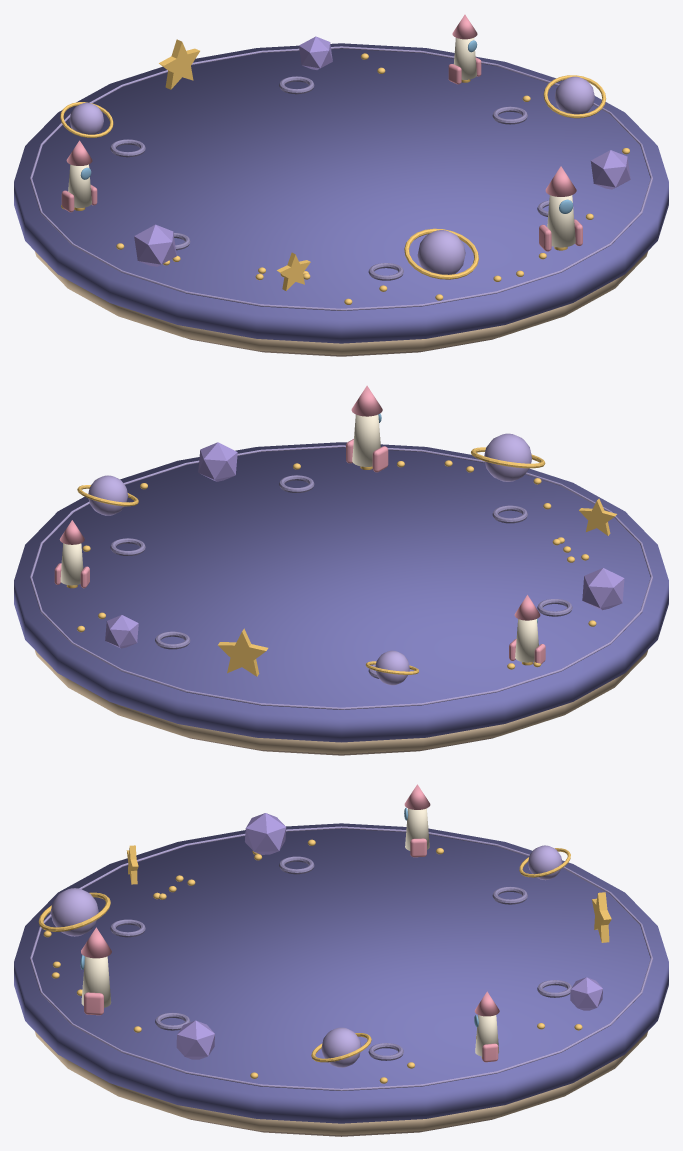
The model's file is world.glb.
The picture shows the model from 3 angles, top to bottom: view 1: azimuth 30°, elevation 25°; view 2: azimuth 150°, elevation 25°; view 3: azimuth 270°, elevation 25°; orthographic projection.
Visible parts, largest first — view 1: Cone, Cone.001, Torus.152, planet.003, rocket.003, planet.001, rocket.002, rocket.001, gem.002, planet.002, gem.003, star.001 (+3 smaller); view 2: Cone, Cone.001, Torus.152, rocket.003, planet.003, rocket.002, rocket.001, planet.001, gem.002, gem.003, star.001, planet.002 (+3 smaller); view 3: Cone, Cone.001, Torus.152, planet.003, rocket.003, planet.001, rocket.002, rocket.001, gem.002, gem.003, planet.002, gem.001 (+2 smaller).
Boxes of the visible parts, bbox=[...] form: Cone: bbox=[14, 43, 668, 343]; Cone.001: bbox=[34, 251, 648, 355]; Torus.152: bbox=[30, 46, 652, 310]; planet.003: bbox=[404, 228, 478, 279]; rocket.003: bbox=[539, 166, 582, 251]; planet.001: bbox=[543, 75, 606, 118]; rocket.002: bbox=[61, 140, 97, 212]; rocket.001: bbox=[448, 14, 481, 84]; gem.002: bbox=[134, 224, 176, 266]; planet.002: bbox=[60, 102, 113, 137]; gem.003: bbox=[590, 150, 630, 189]; star.001: bbox=[159, 39, 199, 89]; Cone: bbox=[14, 442, 668, 742]; Cone.001: bbox=[35, 650, 647, 754]; Torus.152: bbox=[30, 445, 652, 709]; rocket.003: bbox=[346, 385, 388, 472]; planet.003: bbox=[471, 433, 545, 481]; rocket.002: bbox=[509, 595, 545, 665]; rocket.001: bbox=[54, 520, 89, 588]; planet.001: bbox=[77, 475, 138, 515]; gem.002: bbox=[582, 568, 624, 610]; gem.003: bbox=[198, 442, 237, 481]; star.001: bbox=[218, 628, 268, 676]; planet.002: bbox=[366, 650, 418, 685]; Cone: bbox=[14, 823, 668, 1123]; Cone.001: bbox=[34, 1031, 648, 1135]; Torus.152: bbox=[30, 826, 652, 1090]; planet.003: bbox=[38, 888, 110, 936]; rocket.003: bbox=[80, 927, 111, 1015]; planet.001: bbox=[311, 1027, 371, 1067]; rocket.002: bbox=[404, 784, 430, 857]; rocket.001: bbox=[474, 991, 499, 1062]; gem.002: bbox=[245, 813, 286, 854]; gem.003: bbox=[176, 1020, 214, 1059]; planet.002: bbox=[519, 845, 570, 880]; gem.001: bbox=[570, 977, 602, 1010].
Bounding box in the file's own units: 9.6 × 2.09 × 9.6.
